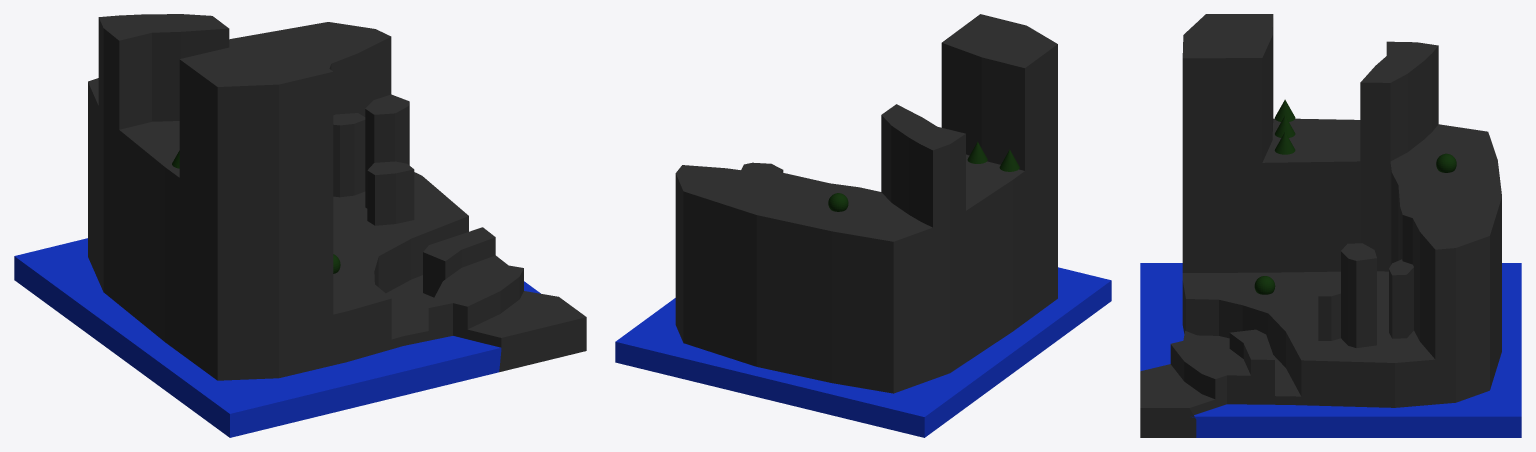
Rendered from test_ld_tuto_jump.obj.
3 renders of one model, left to right at view 1: azimuth 30°, elevation 25°; view 2: azimuth 150°, elevation 25°; view 3: azimuth 270°, elevation 25°, orthographic. The views are drawn at different scales.
Parts seen in each view (by area): view 1: Plateau_Cube; view 2: Plateau_Cube; view 3: Plateau_Cube.
Boxes of the visible parts, left/top/right/bottom form: Plateau_Cube: left=14, top=14, right=586, bottom=437; Plateau_Cube: left=615, top=14, right=1111, bottom=437; Plateau_Cube: left=1140, top=14, right=1521, bottom=437.
Bounding box in the file's own units: 35.22 × 29.98 × 36.89.
